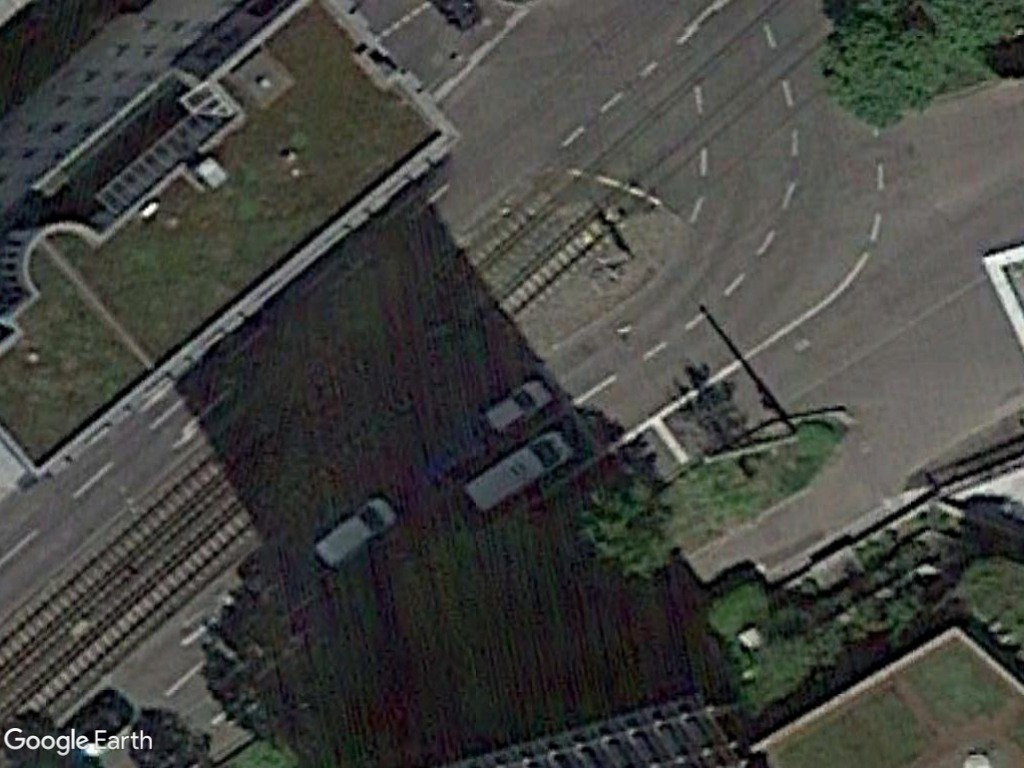van: (461, 429, 574, 517), (312, 490, 402, 574), (480, 373, 550, 439)
